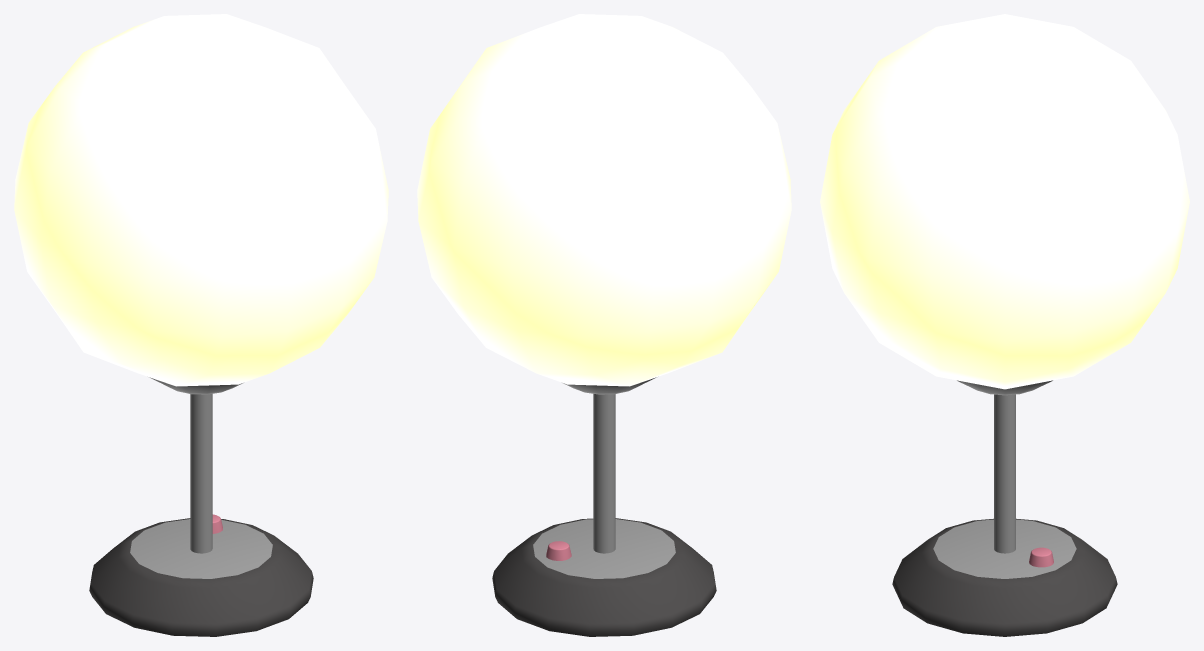
File: Lamp_2.glb
3 views of the same model, side by side, from view 1: azimuth 30°, elevation 25°; view 2: azimuth 150°, elevation 25°; view 3: azimuth 270°, elevation 25° (orthographic).
Visible parts, largest first — view 1: Lamp_2; view 2: Lamp_2; view 3: Lamp_2.
Boxes of the visible parts, box(x1,y1,x2,y2) form: Lamp_2: box(14, 14, 388, 636); Lamp_2: box(417, 14, 791, 636); Lamp_2: box(820, 14, 1189, 636).
Size of the model in its own units: 0.3487 by 0.5788 by 0.3487.
2 materials, 1 textured.
